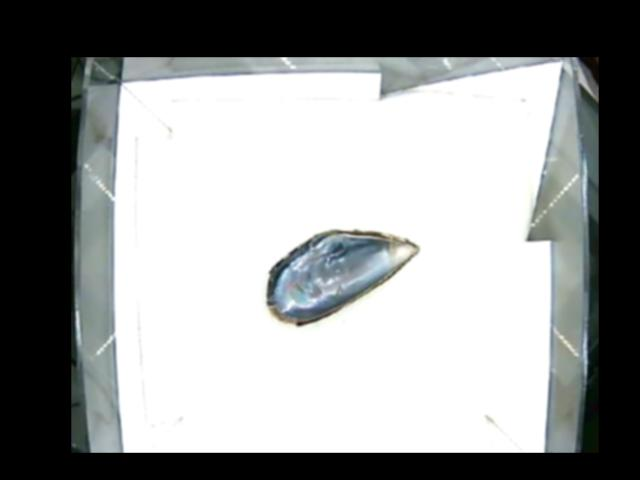Shell: (264, 227, 419, 331)
